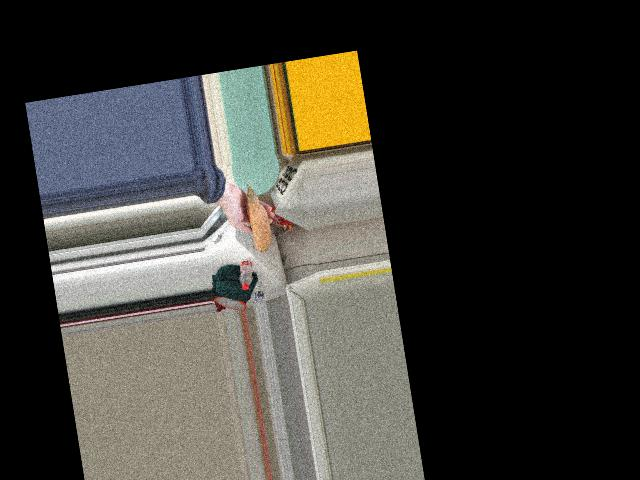sweet_potato: (242, 184, 273, 254)
